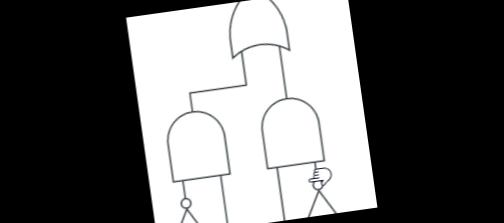and: (254, 88, 329, 173), (160, 103, 234, 183)
not: (289, 174, 345, 218), (157, 191, 217, 223)
or: (218, 0, 296, 62)
